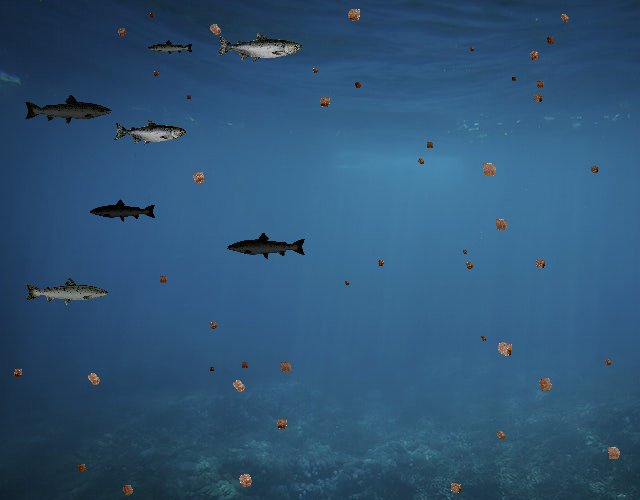Fish: (23, 94, 113, 126), (24, 276, 110, 307), (216, 32, 302, 63), (226, 232, 307, 261), (114, 120, 187, 146), (90, 199, 158, 223), (147, 40, 194, 57)
Pellet: (475, 155, 503, 183), (489, 212, 513, 236), (203, 18, 227, 42), (491, 425, 511, 445), (524, 45, 544, 65), (309, 64, 322, 77), (460, 246, 470, 256)
